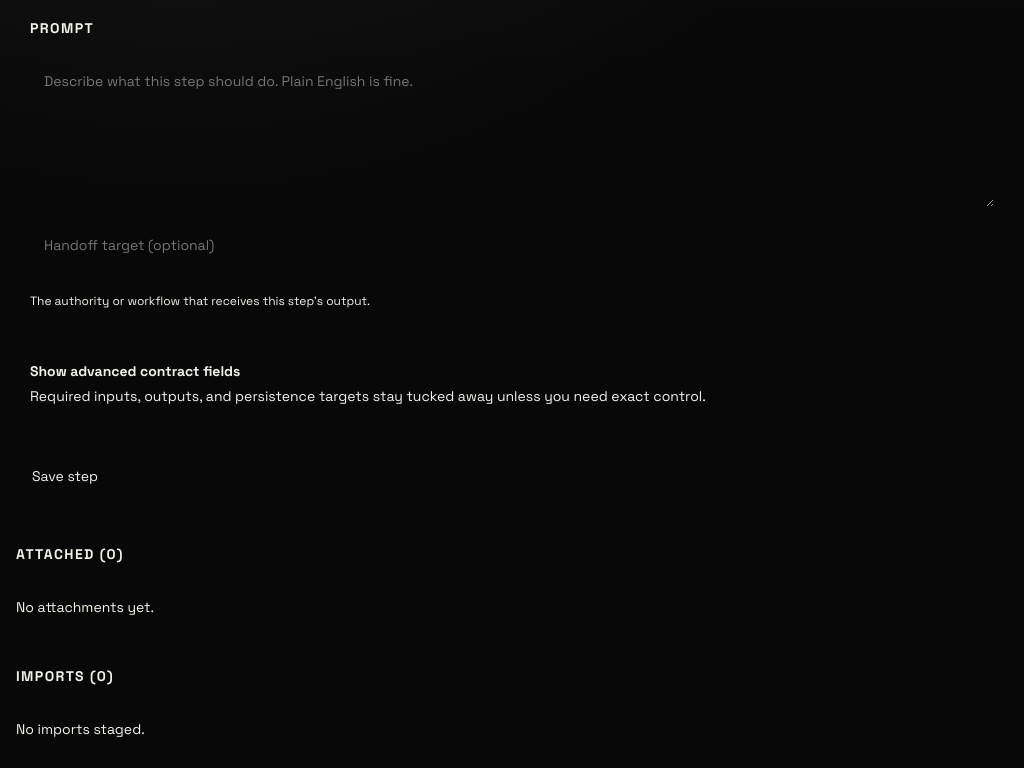
Test: MoonNodeDetail › keeps long route and contract values in the DOM for readable wrapping surfaces
(page scrolled)
Click the button "Show advanced contract fields".
click(512, 384)  # box [16,350,1008,418]
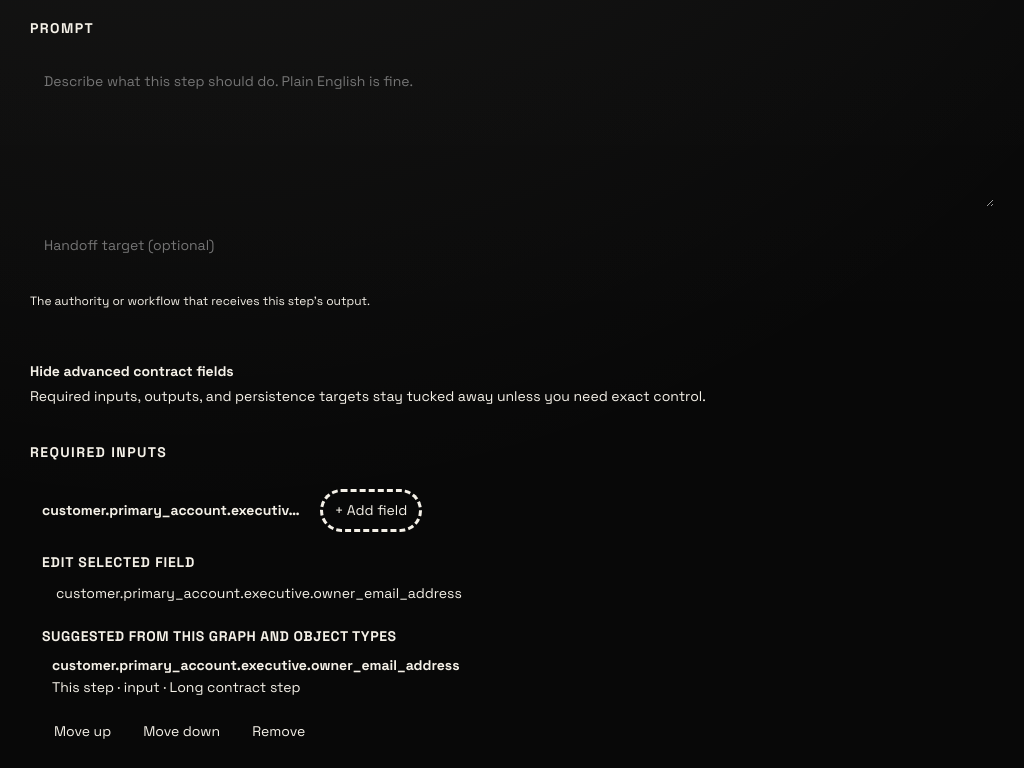
Check: the field showing "customer.primary_account.executive.owner_email_address" is shown, box [42,574,982,614]
